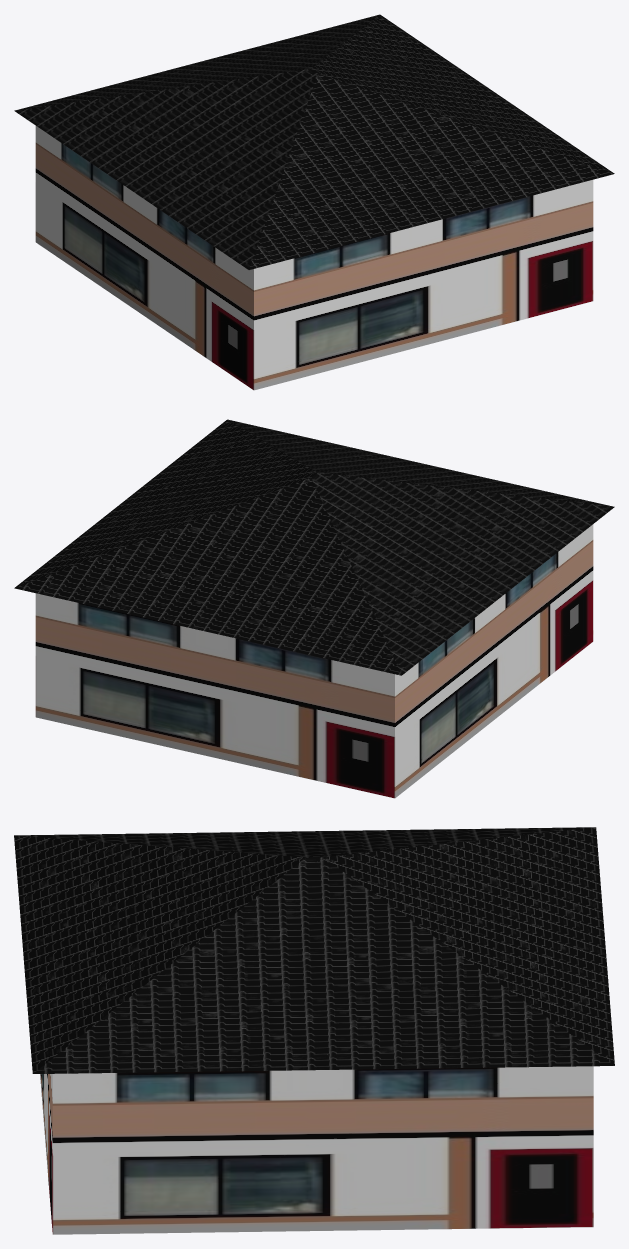
The picture shows the model from 3 angles, top to bottom: view 1: azimuth 30°, elevation 25°; view 2: azimuth 150°, elevation 25°; view 3: azimuth 270°, elevation 25°; orthographic projection. The views are drawn at different scales.
Parts seen in each view (by area): view 1: CityEngineMaterial_14_m, CityEngineMaterial_5_m; view 2: CityEngineMaterial_14_m, CityEngineMaterial_5_m; view 3: CityEngineMaterial_14_m, CityEngineMaterial_5_m.
Boxes of the visible parts, x1=… form: CityEngineMaterial_14_m: x1=14, y1=14, x2=614, y2=269; CityEngineMaterial_5_m: x1=35, y1=126, x2=593, y2=390; CityEngineMaterial_14_m: x1=14, y1=419, x2=614, y2=675; CityEngineMaterial_5_m: x1=35, y1=524, x2=593, y2=798; CityEngineMaterial_14_m: x1=14, y1=827, x2=614, y2=1073; CityEngineMaterial_5_m: x1=40, y1=1066, x2=593, y2=1234.
Size of the model in its own units: 26.66 by 13.23 by 27.42.
